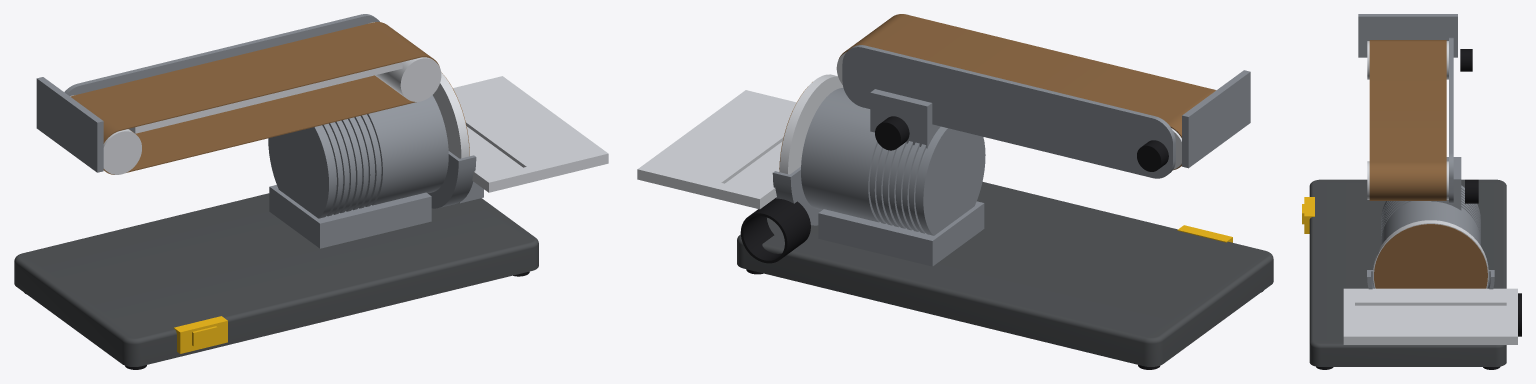
File: sander.glb
The picture shows the model from 3 angles, left to right: view 1: azimuth 30°, elevation 25°; view 2: azimuth 150°, elevation 25°; view 3: azimuth 270°, elevation 25°; orthographic projection. The views are drawn at different scales.
Parts seen in each view (by area): view 1: sander_cast_iron, sander_machine_gray, sander_sandpaper, sander_aluminum, sander_yellow_plastic; view 2: sander_machine_gray, sander_cast_iron, sander_aluminum, sander_sandpaper, sander_black_plastic; view 3: sander_sandpaper, sander_cast_iron, sander_aluminum, sander_machine_gray, sander_black_plastic, sander_yellow_plastic.
Boxes of the visible parts, left/top/right/bottom form: sander_cast_iron: left=14, top=193, right=538, bottom=366; sander_machine_gray: left=36, top=14, right=483, bottom=248; sander_sandpaper: left=70, top=22, right=469, bottom=174; sander_aluminum: left=70, top=22, right=608, bottom=192; sander_yellow_plastic: left=173, top=316, right=227, bottom=353; sander_machine_gray: left=772, top=45, right=1250, bottom=266; sander_cast_iron: left=737, top=182, right=1273, bottom=366; sander_aluminum: left=637, top=14, right=1216, bottom=209; sander_sandpaper: left=779, top=14, right=1215, bottom=171; sander_black_plastic: left=740, top=116, right=1263, bottom=369; sander_sandpaper: left=1369, top=40, right=1487, bottom=288; sander_cast_iron: left=1309, top=179, right=1506, bottom=366; sander_aluminum: left=1343, top=41, right=1517, bottom=344; sander_machine_gray: left=1358, top=14, right=1494, bottom=289; sander_black_plastic: left=1316, top=49, right=1521, bottom=369; sander_yellow_plastic: left=1302, top=197, right=1314, bottom=233.
Bounding box in the file's own units: 0.6297 × 0.278 × 0.29.
